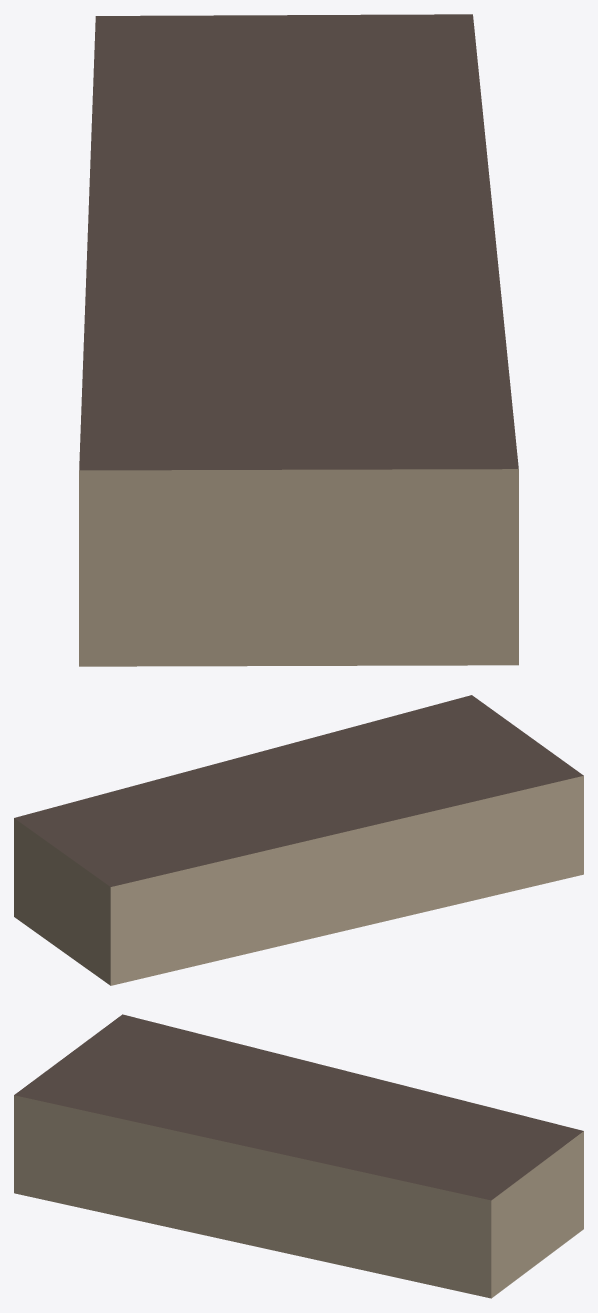
The picture shows the model from 3 angles, top to bottom: view 1: azimuth 30°, elevation 25°; view 2: azimuth 150°, elevation 25°; view 3: azimuth 270°, elevation 25°; orthographic projection. The views are drawn at different scales.
Visible parts, largest first — view 1: HP-w1515071109; view 2: HP-w1515071109; view 3: HP-w1515071109.
Part boxes in pixels (left/top/right/bottom): HP-w1515071109: left=79, top=14, right=518, bottom=666; HP-w1515071109: left=14, top=695, right=583, bottom=985; HP-w1515071109: left=14, top=1014, right=583, bottom=1298.
Size of the model in its own units: 36.61 by 9 by 47.39.
